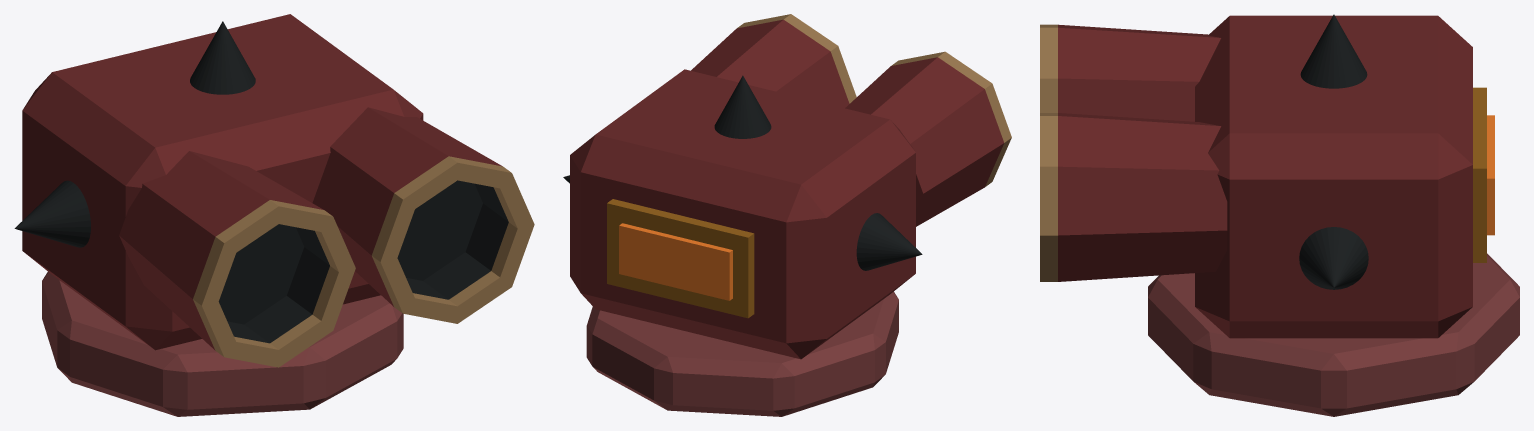
The model's file is fire_lvl_2.glb.
3 renders of one model, left to right at view 1: azimuth 30°, elevation 25°; view 2: azimuth 150°, elevation 25°; view 3: azimuth 270°, elevation 25°, orthographic. The views are drawn at different scales.
Visible parts, largest first — view 1: FireHousing, FireNozzle, FireNozzle.001, FireBase, Cone.002, Cone; view 2: FireHousing, FireBase, FireNozzle, FireNozzle.001, HeatWindowFrame, HeatWindow, Cone.002, Cone; view 3: FireHousing, FireNozzle.001, FireBase, FireNozzle, Cone.001, Cone, HeatWindowFrame, HeatWindow.
Boxes of the visible parts, x1=… form: FireHousing: x1=22, y1=14, x2=423, y2=350; FireNozzle: x1=119, y1=151, x2=355, y2=367; FireNozzle.001: x1=312, y1=107, x2=534, y2=323; FireBase: x1=42, y1=272, x2=403, y2=416; Cone.002: x1=14, y1=180, x2=90, y2=247; Cone: x1=190, y1=21, x2=255, y2=94; FireHousing: x1=570, y1=69, x2=915, y2=359; FireBase: x1=586, y1=291, x2=898, y2=416; FireNozzle: x1=845, y1=51, x2=1011, y2=226; FireNozzle.001: x1=691, y1=14, x2=856, y2=108; HeatWindowFrame: x1=607, y1=199, x2=754, y2=318; HeatWindow: x1=619, y1=223, x2=732, y2=300; Cone.002: x1=856, y1=213, x2=922, y2=270; Cone: x1=714, y1=75, x2=771, y2=138; FireHousing: x1=1195, y1=15, x2=1472, y2=338; FireNozzle.001: x1=1040, y1=113, x2=1227, y2=281; FireBase: x1=1148, y1=253, x2=1519, y2=416; FireNozzle: x1=1040, y1=24, x2=1220, y2=121; Cone.001: x1=1299, y1=227, x2=1368, y2=289; Cone: x1=1300, y1=14, x2=1367, y2=88; HeatWindowFrame: x1=1473, y1=87, x2=1486, y2=262; HeatWindow: x1=1487, y1=115, x2=1494, y2=235.
Size of the model in its own units: 1.4 by 1.04 by 1.38.
